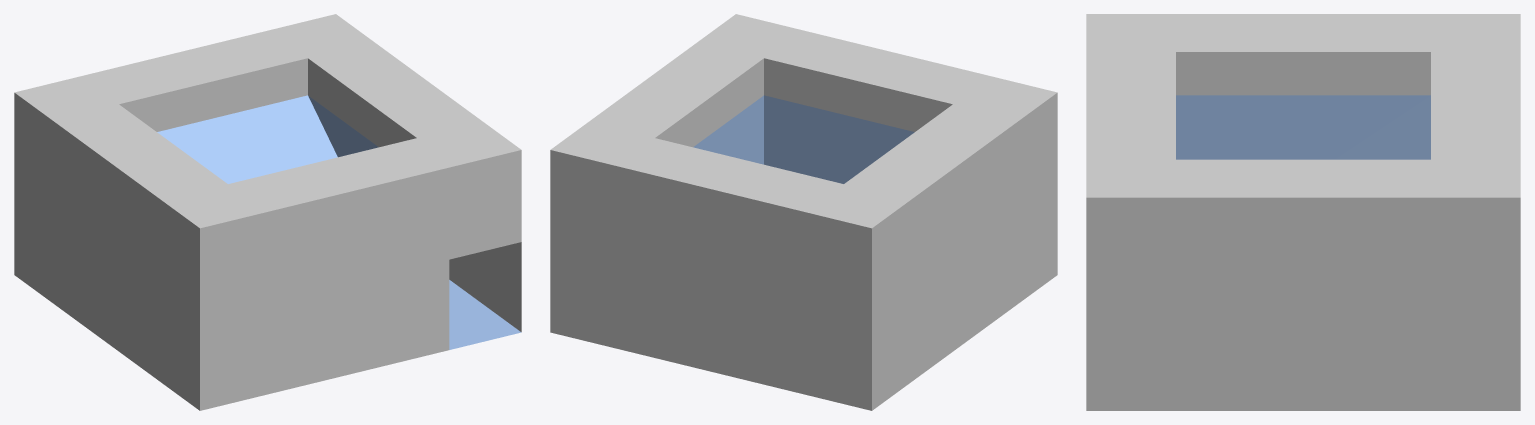
File: jul8bien.glb
The picture shows the model from 3 angles, left to right: view 1: azimuth 30°, elevation 25°; view 2: azimuth 150°, elevation 25°; view 3: azimuth 270°, elevation 25°; orthographic projection. The views are drawn at different scales.
Visible parts, largest first — view 1: jul 8biencreo; view 2: jul 8biencreo; view 3: jul 8biencreo.
Part boxes in pixels (x1,y1,x2,y2): jul 8biencreo: (14, 14, 521, 410); jul 8biencreo: (550, 14, 1057, 410); jul 8biencreo: (1086, 14, 1520, 410).
Size of the model in its own units: 7.89 by 4.28 by 7.89.
